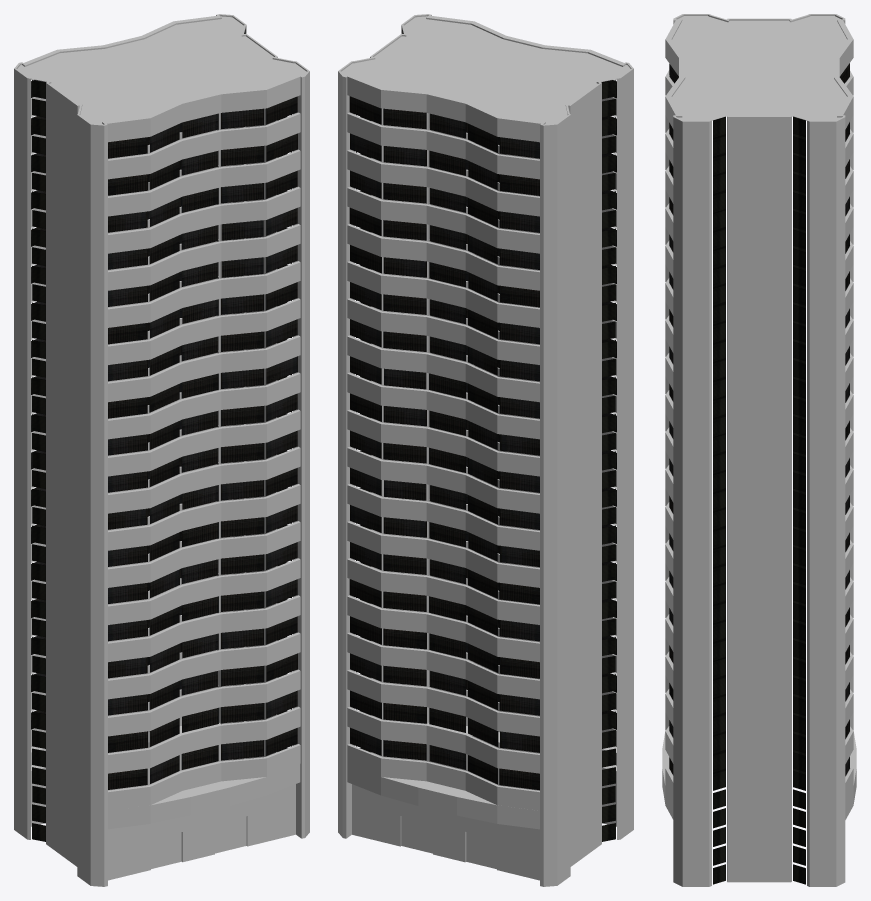
3 renders of one model, left to right at view 1: azimuth 30°, elevation 25°; view 2: azimuth 150°, elevation 25°; view 3: azimuth 270°, elevation 25°, orthographic.
Parts seen in each view (by area): view 1: BC-058; view 2: BC-058; view 3: BC-058.
Boxes of the visible parts, x1,y1,x2,y2 form: BC-058: [14, 14, 309, 886]; BC-058: [338, 14, 633, 886]; BC-058: [662, 14, 856, 886].
Size of what is drawn, in the model's own units: 18.54 by 61.5 by 14.15.
